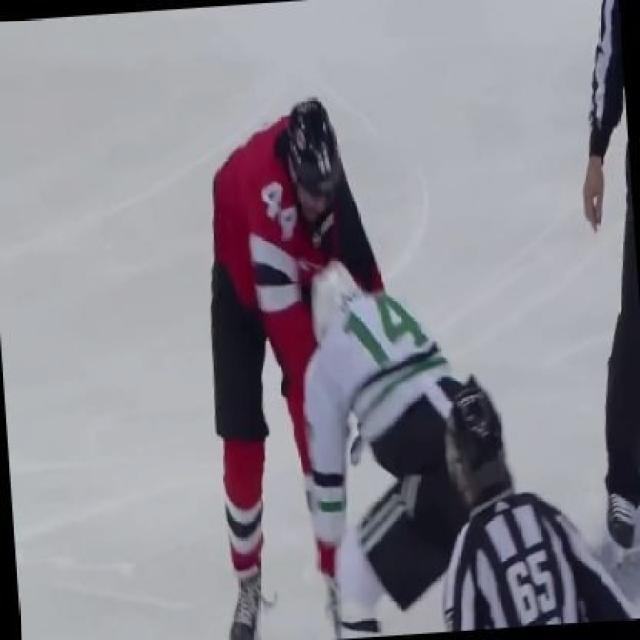fight: (145, 47, 526, 638)
